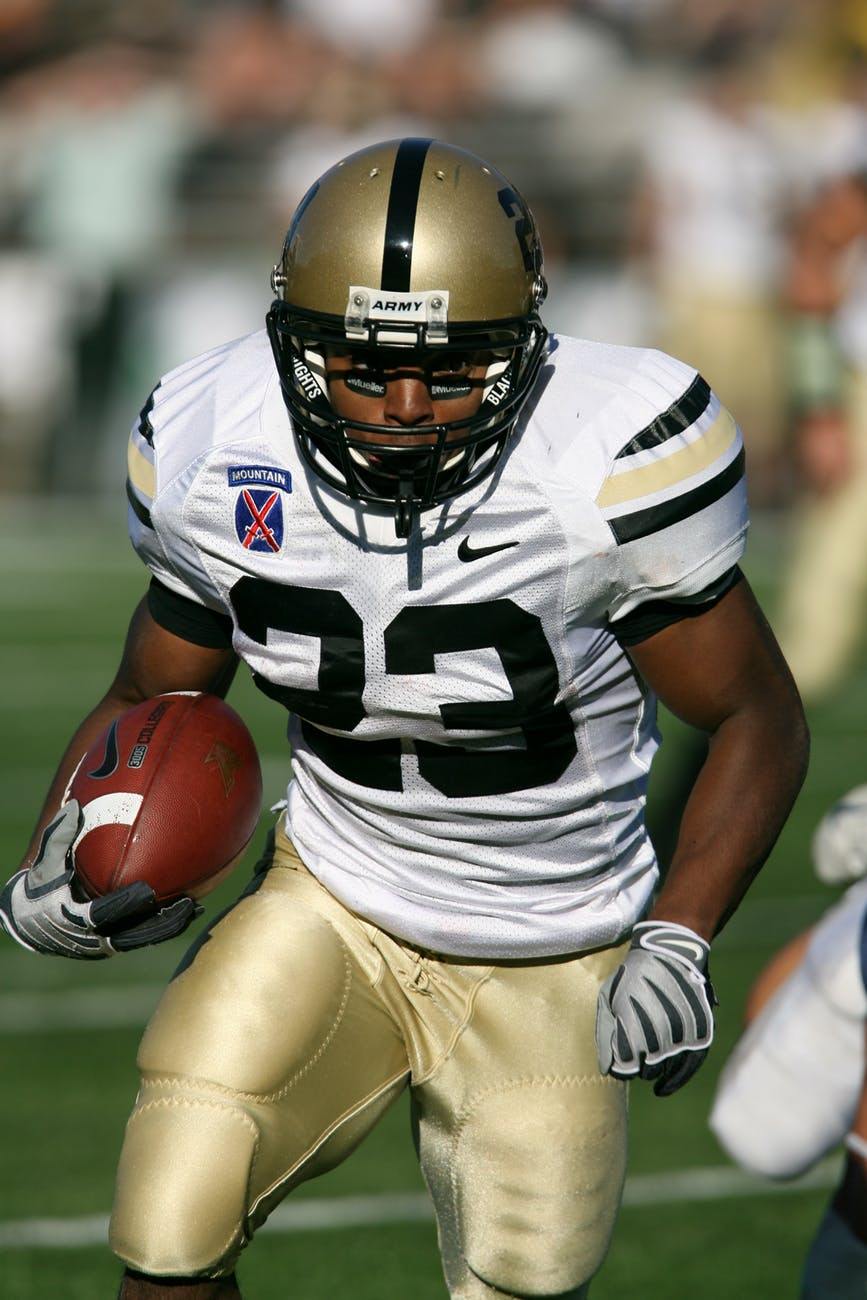helmet: (272, 141, 560, 425)
